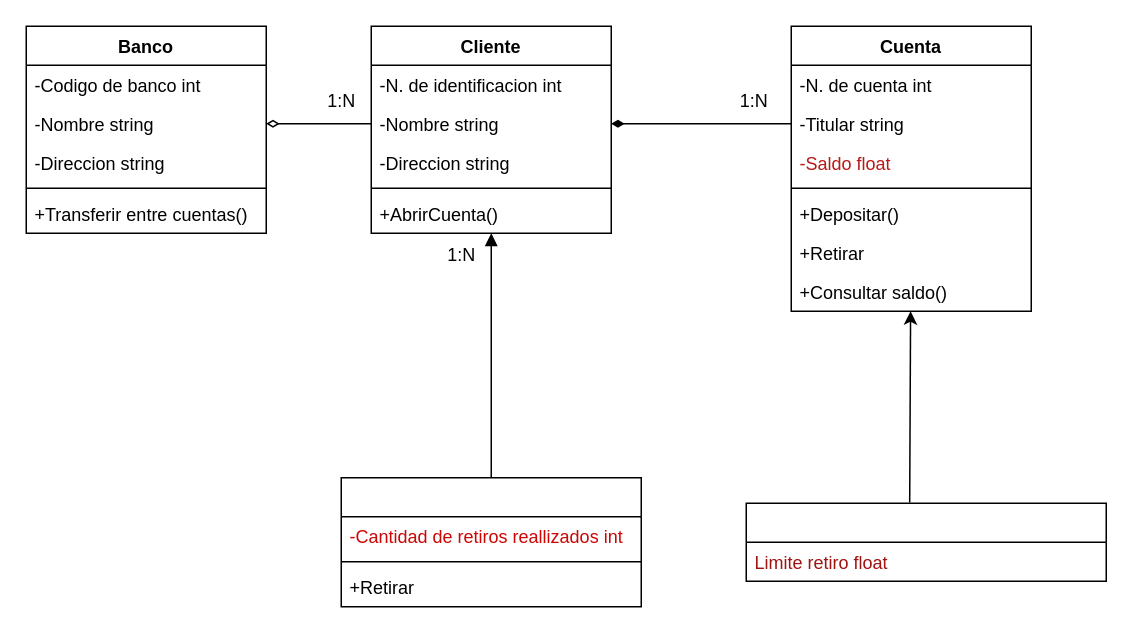
This 1133x638 diagram has some shape labels left out. Each missing label, with the box of its shape:
Cuenta corriente: (745, 502, 1106, 581)
Cuenta de ahorro: (340, 476, 641, 607)
